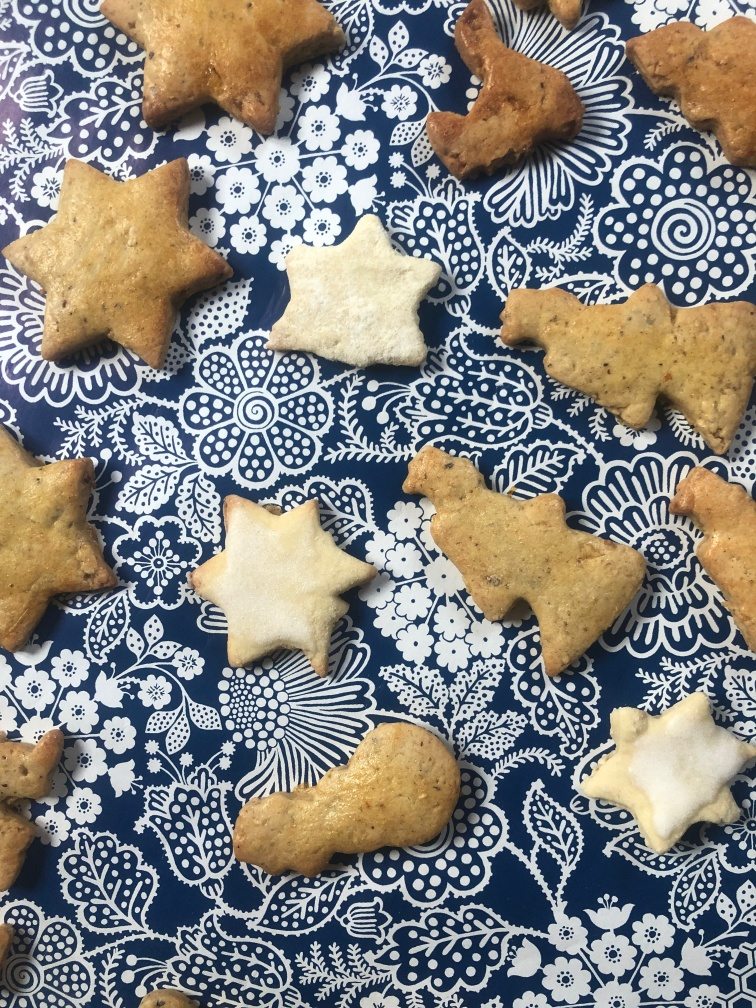king mage: (399, 438, 646, 672), (500, 279, 756, 453), (628, 12, 756, 179), (665, 463, 756, 657)
snowman: (222, 721, 461, 873)
squirrel: (429, 2, 581, 181)
star: (4, 154, 224, 372), (192, 489, 374, 675), (95, 1, 343, 133), (579, 688, 754, 855), (270, 215, 440, 378), (1, 422, 115, 653)
